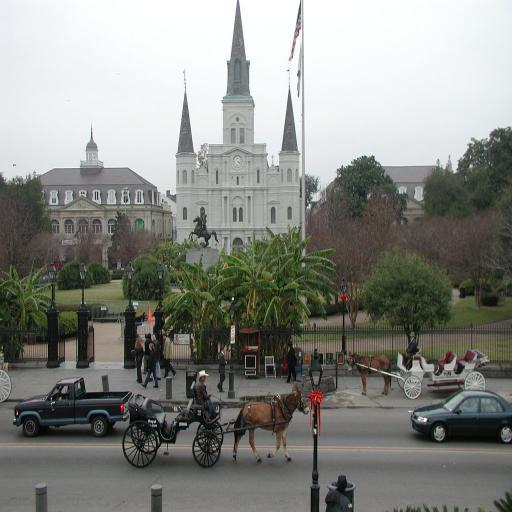horse: (232, 380, 310, 464), (348, 350, 393, 399)
